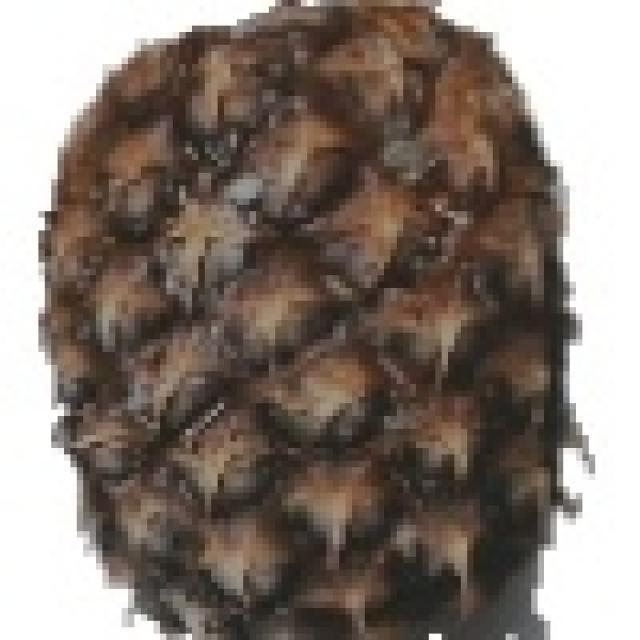pineapple: (41, 0, 580, 640)
